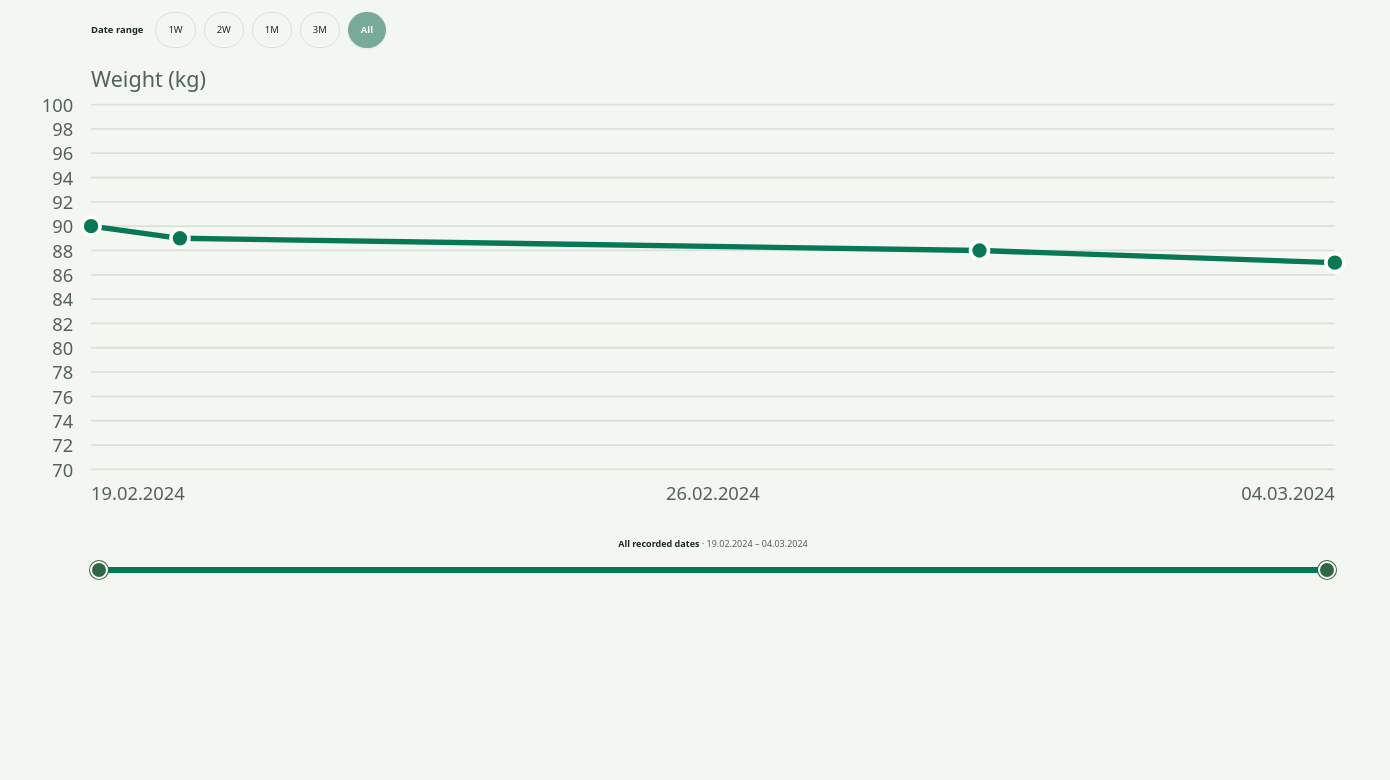
Test: selects inclusive 7-day and 14-day windows anchored on the newest saved date
The image size is (1390, 780).
Click the button named "Show last 1 week": coordinates (176, 30) [155, 12, 196, 48]
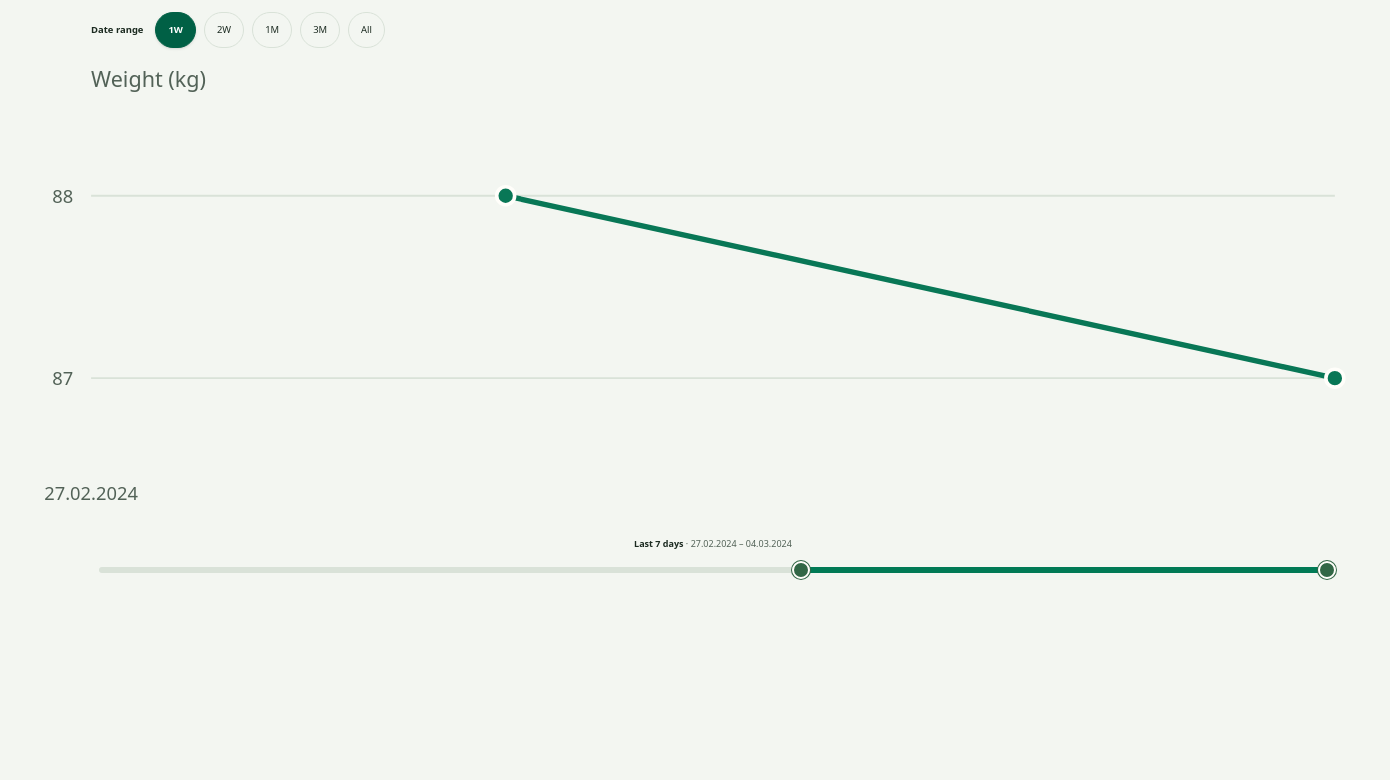
Expected: the element named "Visible date range" reads "Last 7 days · 27.02.2024 – 04.03.2024", [634, 537, 792, 550]
Click the button named "Show last 2 weeks": coordinates (224, 30) [204, 12, 244, 48]
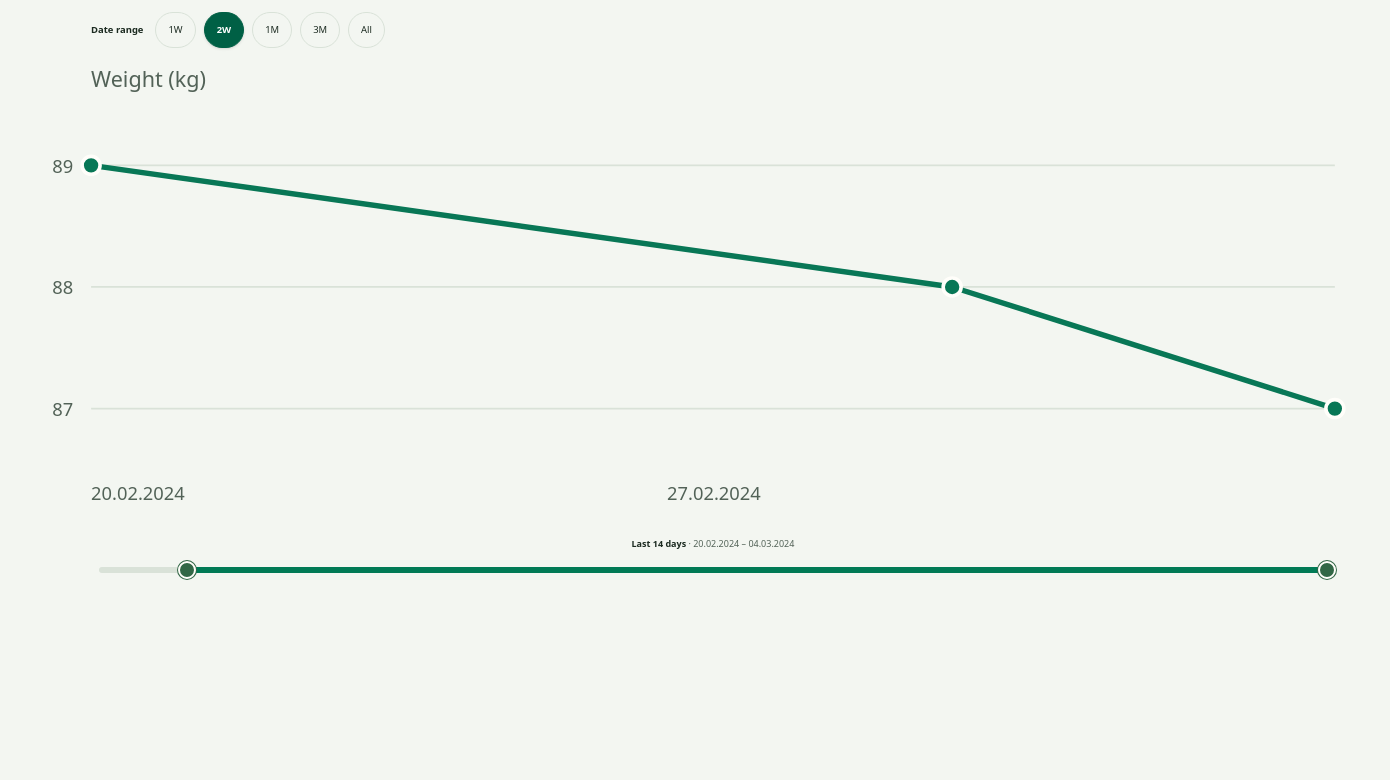
Expected: the element named "Visible date range" reads "Last 14 days · 20.02.2024 – 04.03.2024", [632, 537, 794, 550]
